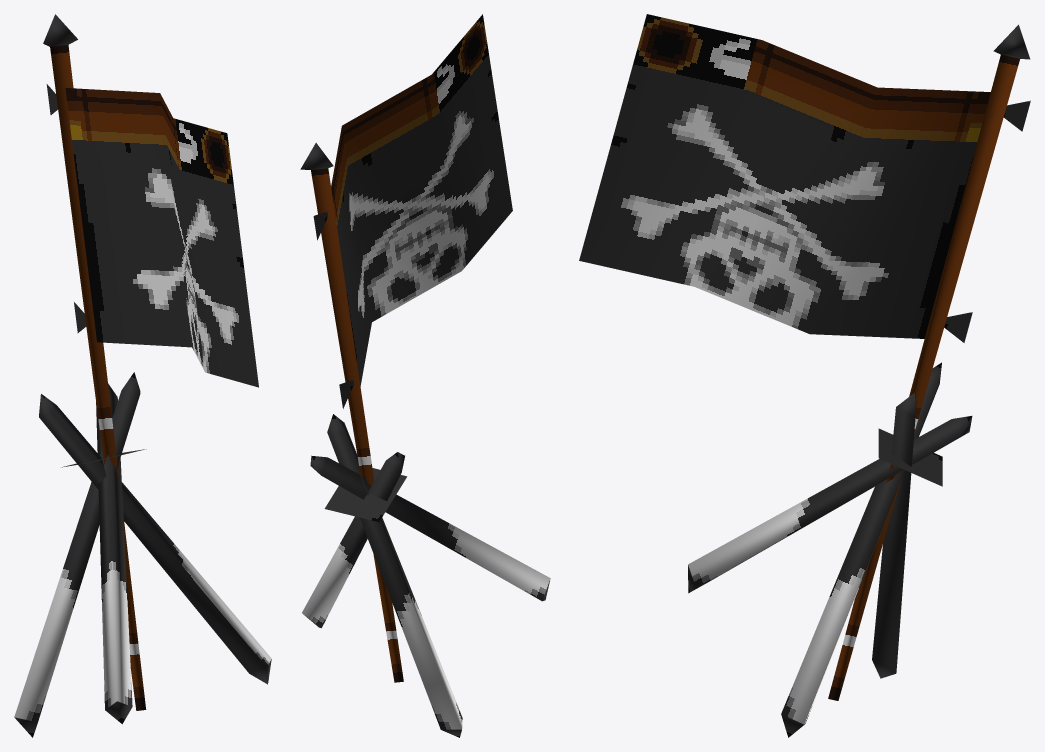
The picture shows the model from 3 angles, left to right: view 1: azimuth 30°, elevation 25°; view 2: azimuth 150°, elevation 25°; view 3: azimuth 270°, elevation 25°; orthographic projection. The views are drawn at different scales.
Parts seen in each view (by area): view 1: 3331IMIG10_10; view 2: 3331IMIG10_10; view 3: 3331IMIG10_10.
Part boxes in pixels (bbox=[...]): 3331IMIG10_10: bbox=[14, 14, 271, 737]; 3331IMIG10_10: bbox=[300, 14, 550, 737]; 3331IMIG10_10: bbox=[579, 14, 1030, 737].
Size of the model in its own units: 0.4514 by 1.34 by 0.7748.
Materials: 1 (1 with a texture image).
